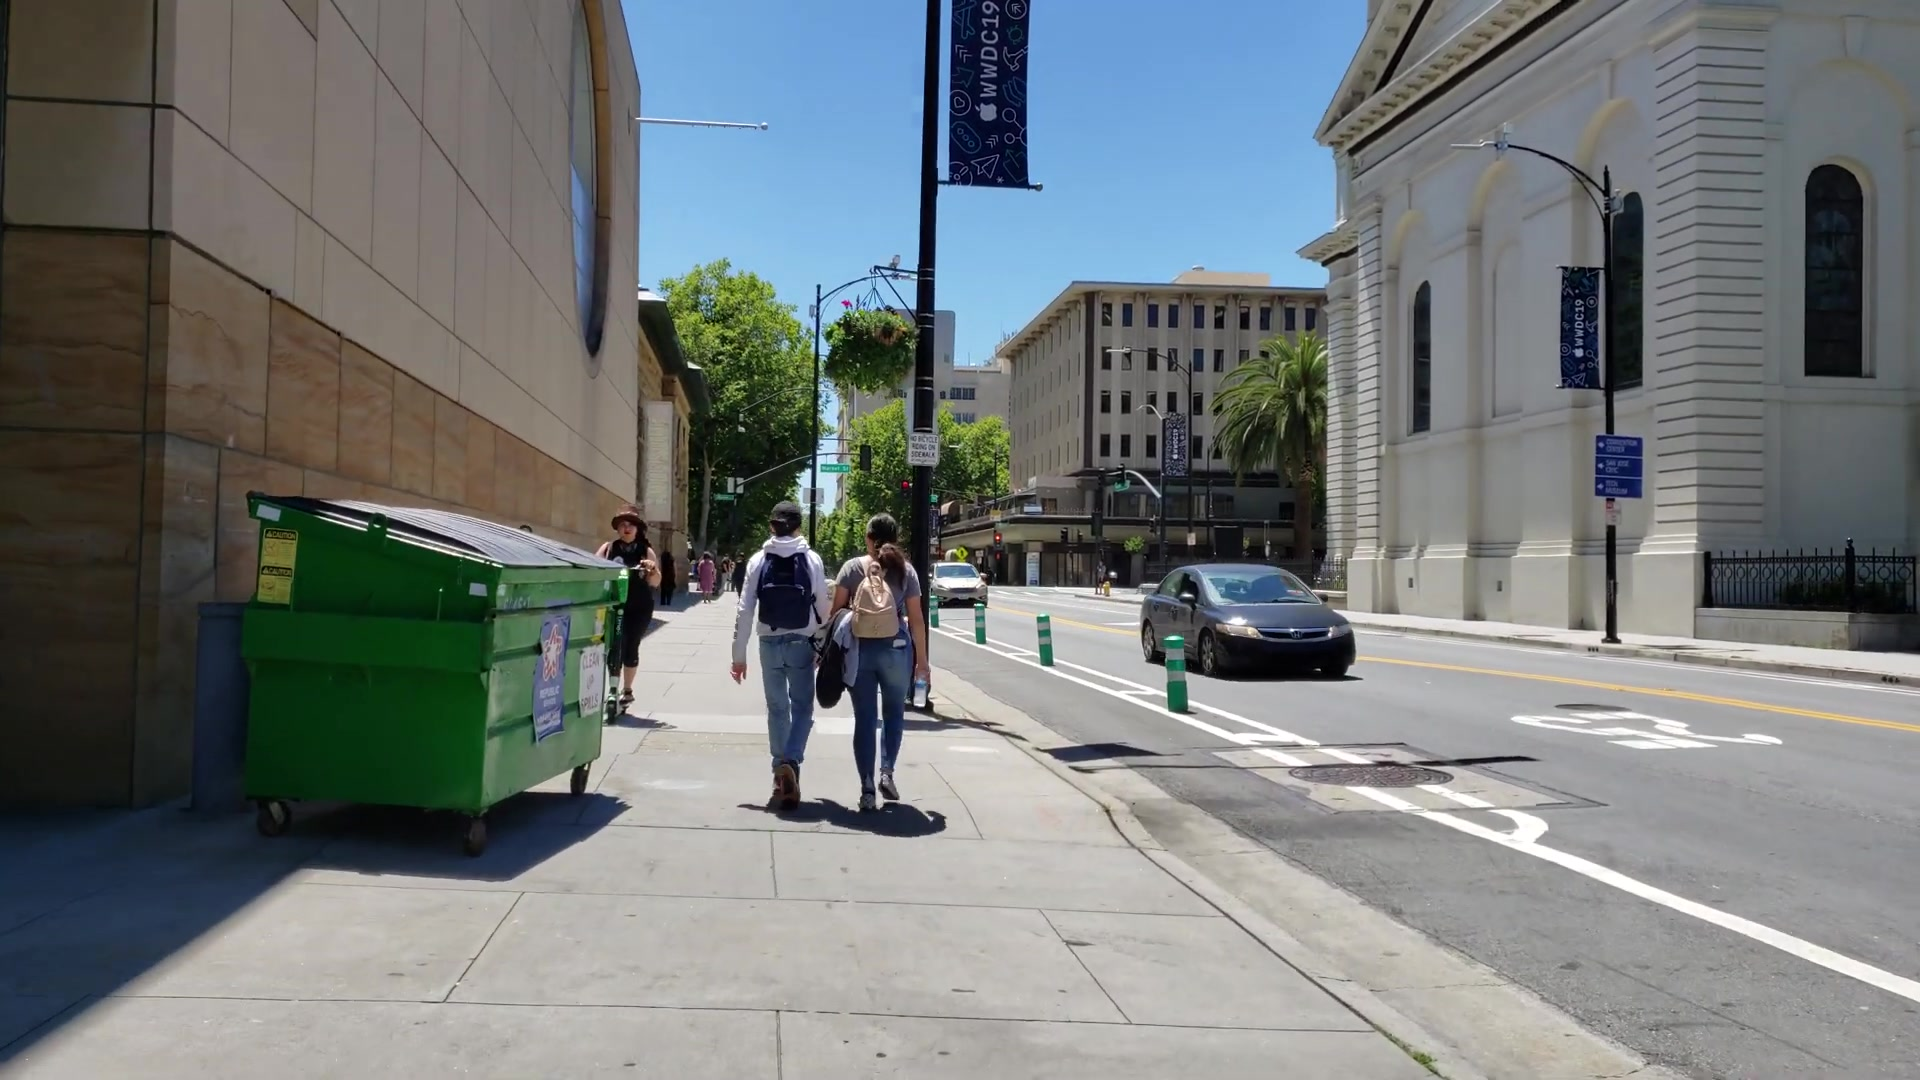vehicle_toward: (1142, 567, 1356, 674), (931, 560, 989, 609)
